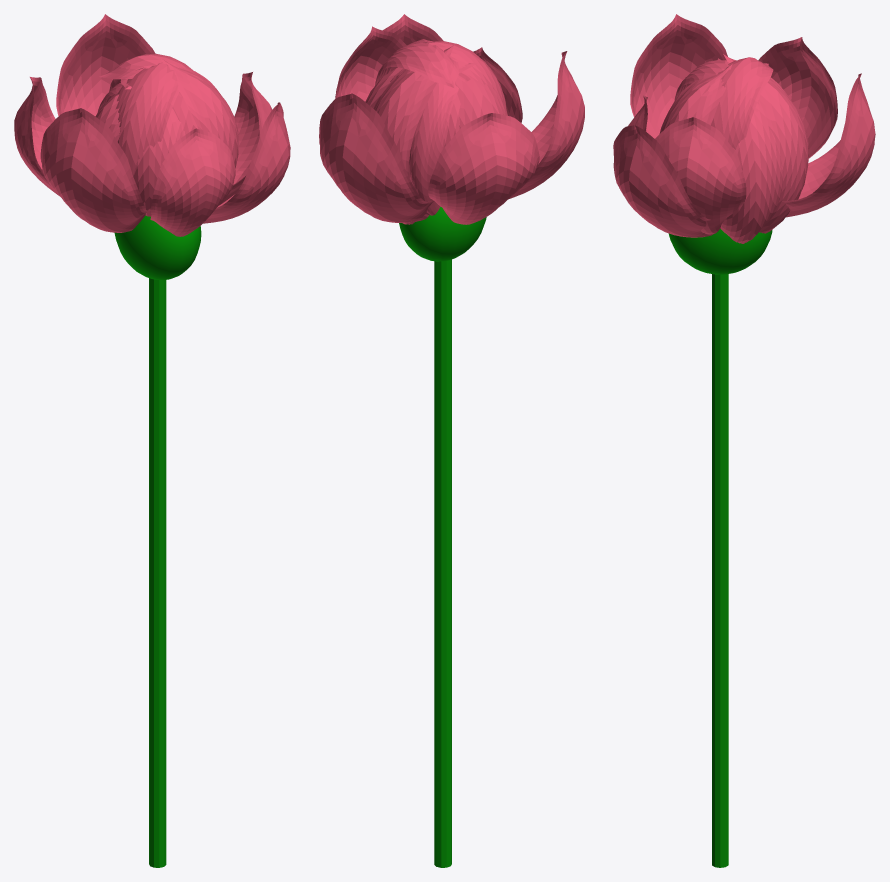
The model's file is Lotus033.fbx.
3 renders of one model, left to right at view 1: azimuth 30°, elevation 25°; view 2: azimuth 150°, elevation 25°; view 3: azimuth 270°, elevation 25°, orthographic. The views are drawn at different scales.
Parts seen in each view (by area): view 1: pCylinder1, nurbsToPoly11, nurbsToPoly8, nurbsToPoly10, nurbsToPoly21, nurbsToPoly24, pSphere4, nurbsToPoly13, nurbsToPoly12, nurbsToPoly9, nurbsToPoly16, nurbsToPoly22 (+1 smaller); view 2: pCylinder1, nurbsToPoly10, nurbsToPoly12, nurbsToPoly11, nurbsToPoly17, nurbsToPoly23, pSphere4, nurbsToPoly9, nurbsToPoly22, nurbsToPoly14, nurbsToPoly21, nurbsToPoly8 (+1 smaller); view 3: pCylinder1, nurbsToPoly9, nurbsToPoly24, nurbsToPoly11, nurbsToPoly10, nurbsToPoly12, nurbsToPoly15, nurbsToPoly17, nurbsToPoly22, pSphere4, nurbsToPoly13, nurbsToPoly21.
Boxes of the visible parts, x1,y1,x2,y2 form: pCylinder1: (149,278,166,867); nurbsToPoly11: (40,108,150,232); nurbsToPoly8: (150,128,235,236); nurbsToPoly10: (56,14,155,116); nurbsToPoly21: (115,62,179,174); nurbsToPoly24: (203,102,290,223); pSphere4: (114,215,201,280); nurbsToPoly13: (160,58,238,168); nurbsToPoly12: (14,77,59,196); nurbsToPoly9: (219,72,272,205); nurbsToPoly16: (133,108,185,216); nurbsToPoly22: (99,53,192,96); pCylinder1: (434,259,451,867); nurbsToPoly10: (319,93,433,222); nurbsToPoly12: (428,113,539,224); nurbsToPoly11: (508,51,584,199); nurbsToPoly17: (373,44,454,224); nurbsToPoly23: (409,83,458,215); pSphere4: (399,206,486,261); nurbsToPoly9: (335,26,406,101); nurbsToPoly22: (375,42,458,87); nurbsToPoly14: (455,78,507,128); nurbsToPoly21: (426,41,507,112); nurbsToPoly8: (473,47,522,122); pCylinder1: (712,274,728,867); nurbsToPoly9: (655,117,746,234); nurbsToPoly24: (613,125,713,237); nurbsToPoly11: (630,14,727,138); nurbsToPoly10: (782,73,875,217); nurbsToPoly12: (758,37,837,158); nurbsToPoly15: (720,110,783,243); nurbsToPoly17: (723,54,808,233); nurbsToPoly22: (711,57,773,149); pSphere4: (668,229,772,274); nurbsToPoly13: (659,64,732,133); nurbsToPoly21: (674,59,729,100).
Bounding box in the file's own units: 14.72 × 50.72 × 14.96.
